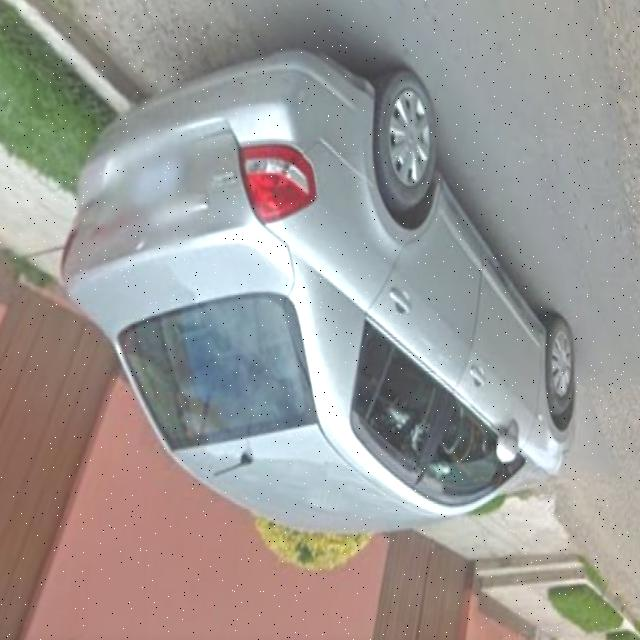car: (57, 53, 599, 543)
